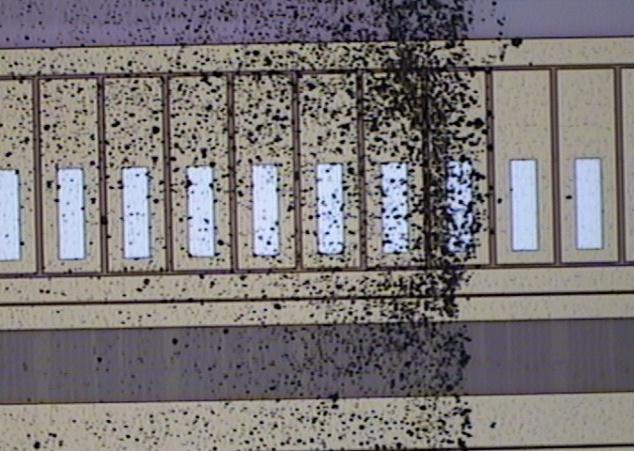PO CONTAMINATION: (1, 1, 575, 451)
